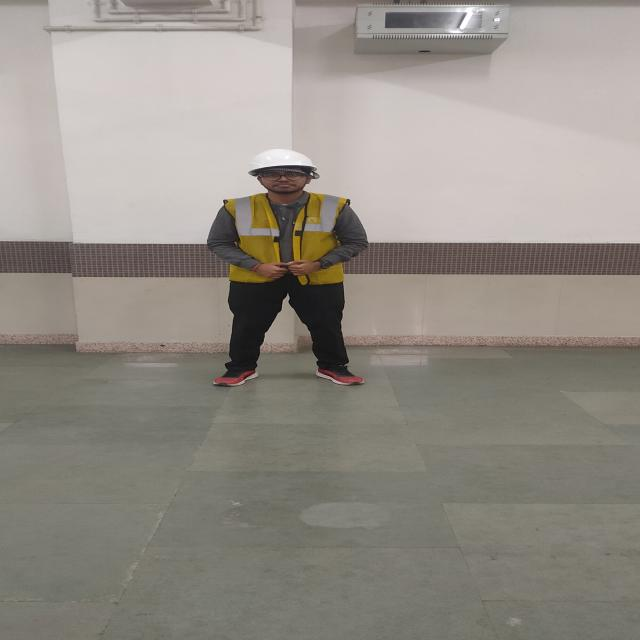safe: (208, 149, 368, 386)
